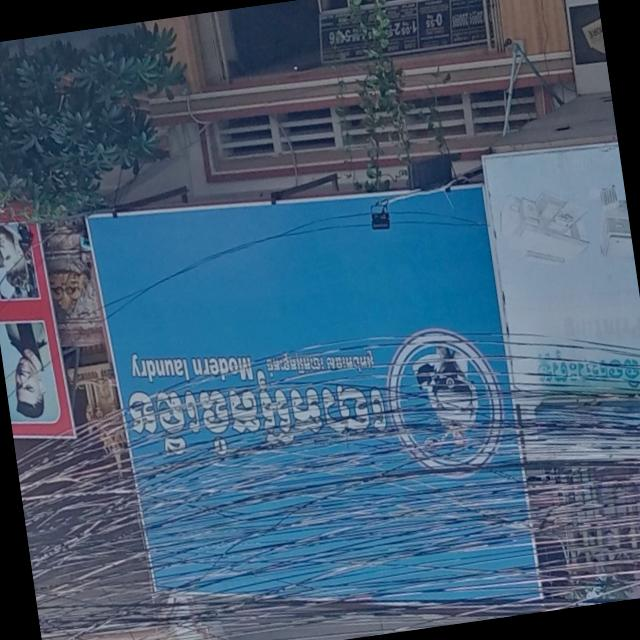1: (258, 345, 412, 378)
Yolov11kh: (126, 371, 396, 471), (524, 332, 640, 399)
